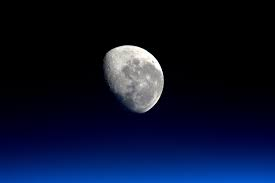moon: (101, 44, 165, 114)
